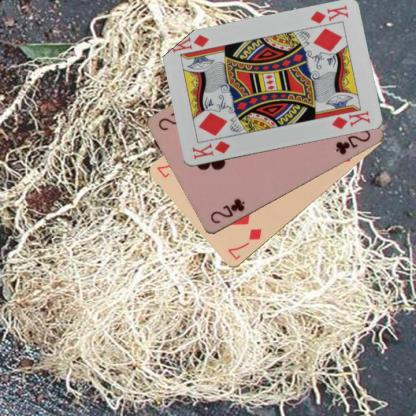2c: (208, 196, 246, 225)
7d: (225, 226, 263, 262)
Kd: (308, 2, 350, 26), (189, 138, 231, 161)
